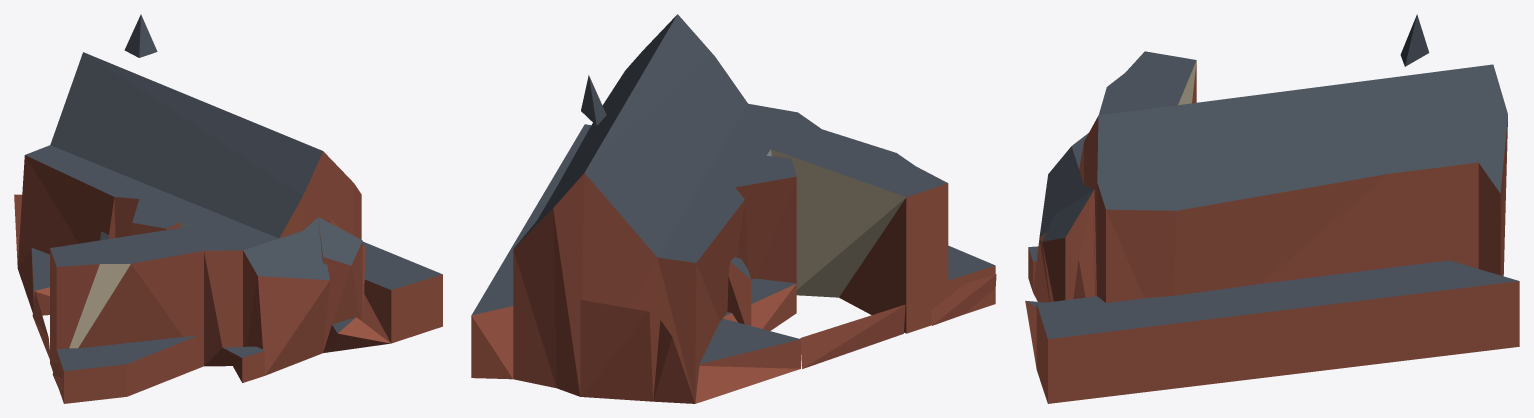
File: nikolaas-myrakerk.lod2.glb
3 renders of one model, left to right at view 1: azimuth 30°, elevation 25°; view 2: azimuth 150°, elevation 25°; view 3: azimuth 270°, elevation 25°, orthographic. The views are drawn at different scales.
Visible parts, largest first — view 1: lod2; view 2: lod2; view 3: lod2.
Part boxes in pixels (<box>): lod2: <box>14,14,442,403</box>; lod2: <box>471,14,996,403</box>; lod2: <box>1025,14,1519,403</box>.
Bounding box in the file's own units: 41.63 × 26.27 × 39.54.
